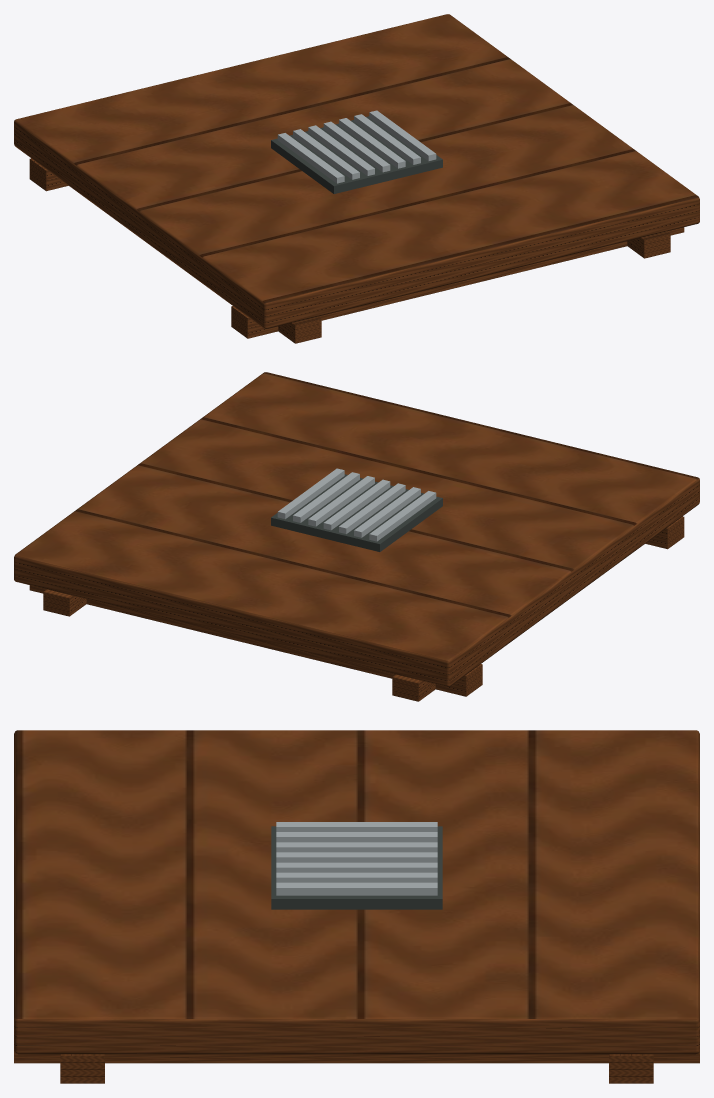
File: roadside-survival-stops-service-floor-drain-d5eb874a__23520.glb
3 renders of one model, top to bottom at view 1: azimuth 30°, elevation 25°; view 2: azimuth 150°, elevation 25°; view 3: azimuth 270°, elevation 25°, orthographic. The views are drawn at different scales.
Parts seen in each view (by area): view 1: service-floor-drain; view 2: service-floor-drain; view 3: service-floor-drain.
Boxes of the visible parts, x1,y1,x2,y2 form: service-floor-drain: (14, 14, 699, 343); service-floor-drain: (14, 372, 699, 701); service-floor-drain: (14, 730, 699, 1083).
Size of the model in its own units: 2 by 0.27 by 2.
Materials: 3 (1 with a texture image).
